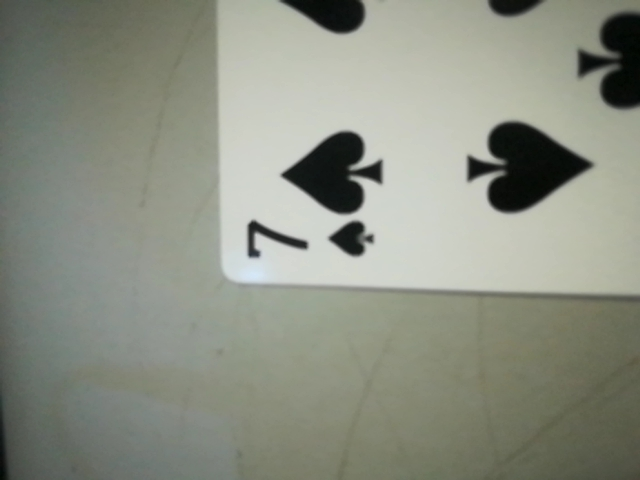ht 7: (226, 206, 391, 278)
